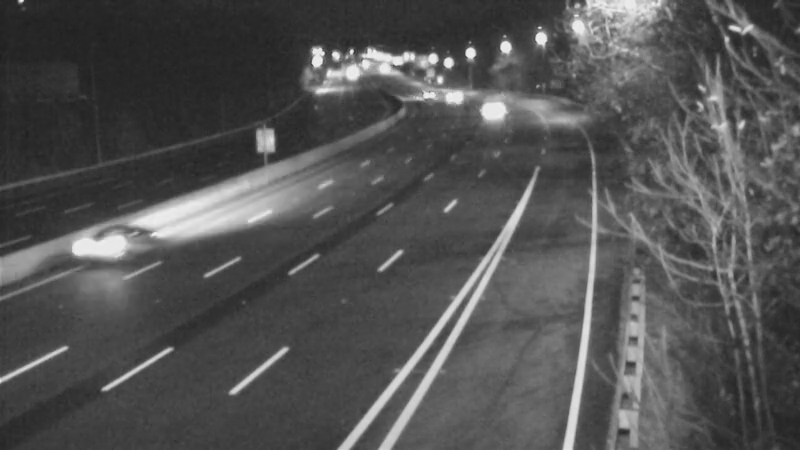vehicle: (69, 205, 149, 285), (402, 67, 452, 117), (430, 63, 480, 113), (463, 83, 513, 133)
